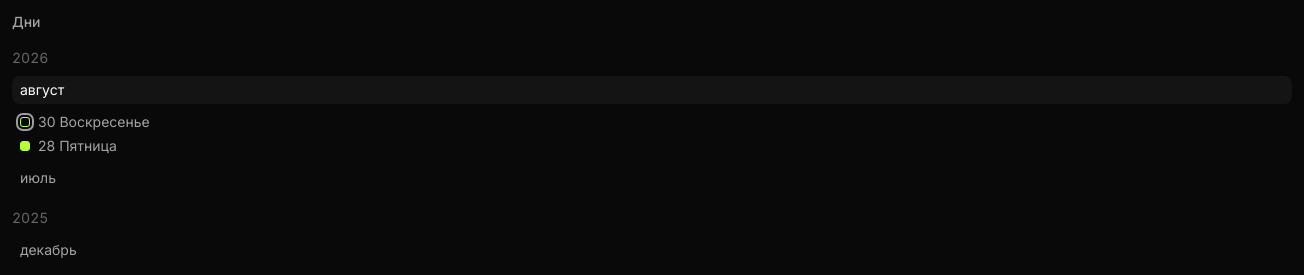
Scenario: DaySidebar › opens another month on a click
This screenshot has width=1304, height=275.
Click the button "июль" at [38, 178], box [12, 164, 1292, 192]
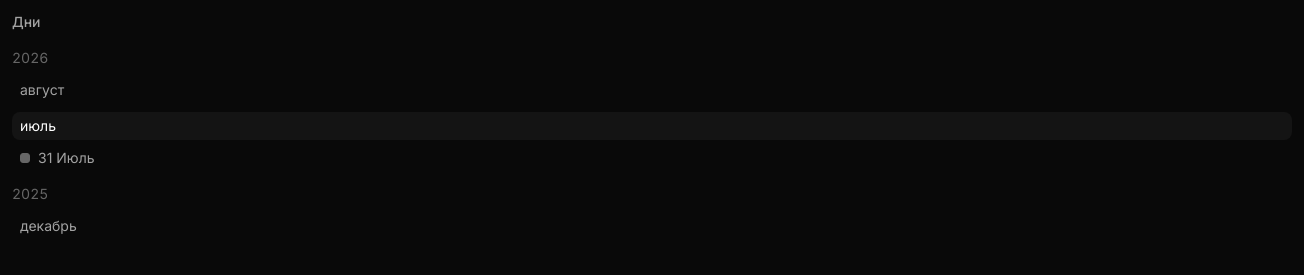
Expected: the button "июль" is expanded, [12, 112, 1292, 140]
Expected: the link "31 Июль" is shown, [38, 148, 94, 168]
